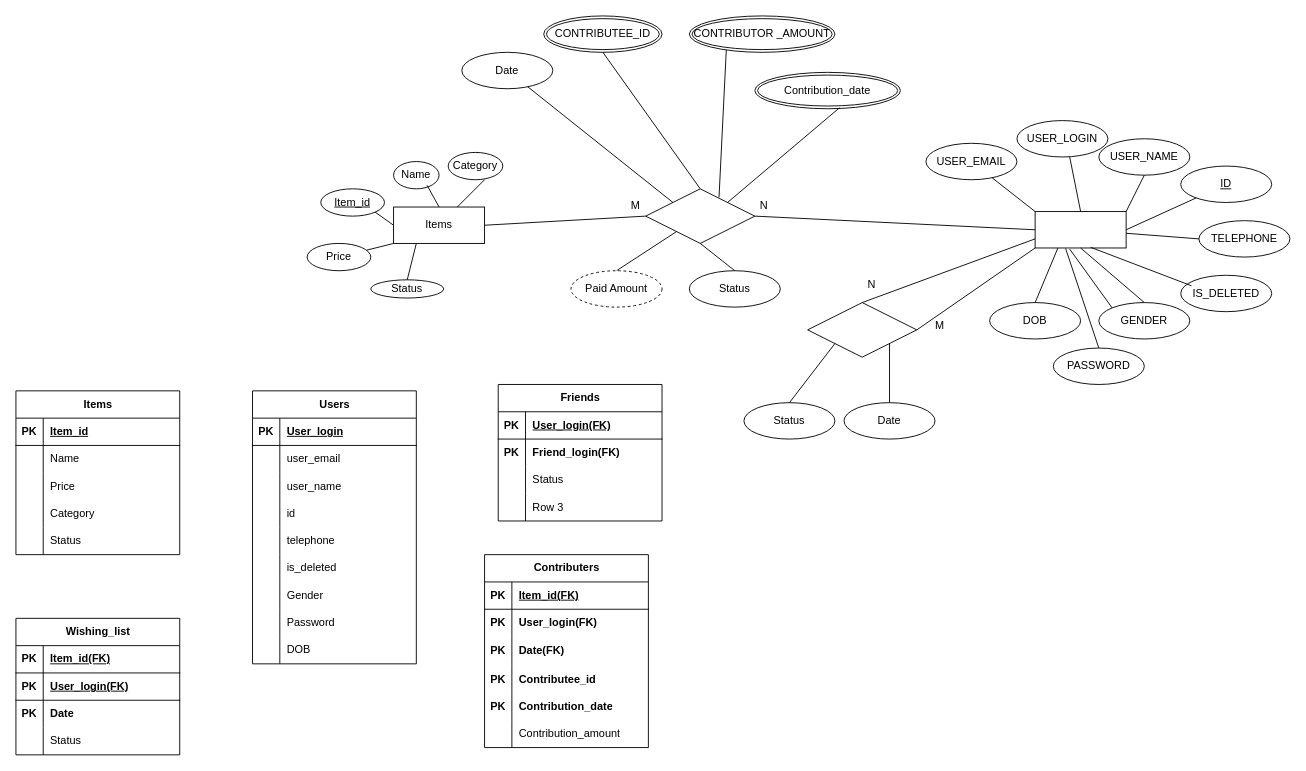
This 1306x771 diagram has some shape labels left out. The centre of each missing label's shape, as x and y in pixels:
"Friend" goes at point (862, 329).
"User" goes at point (1080, 229).
"Wishing List" goes at point (700, 215).
